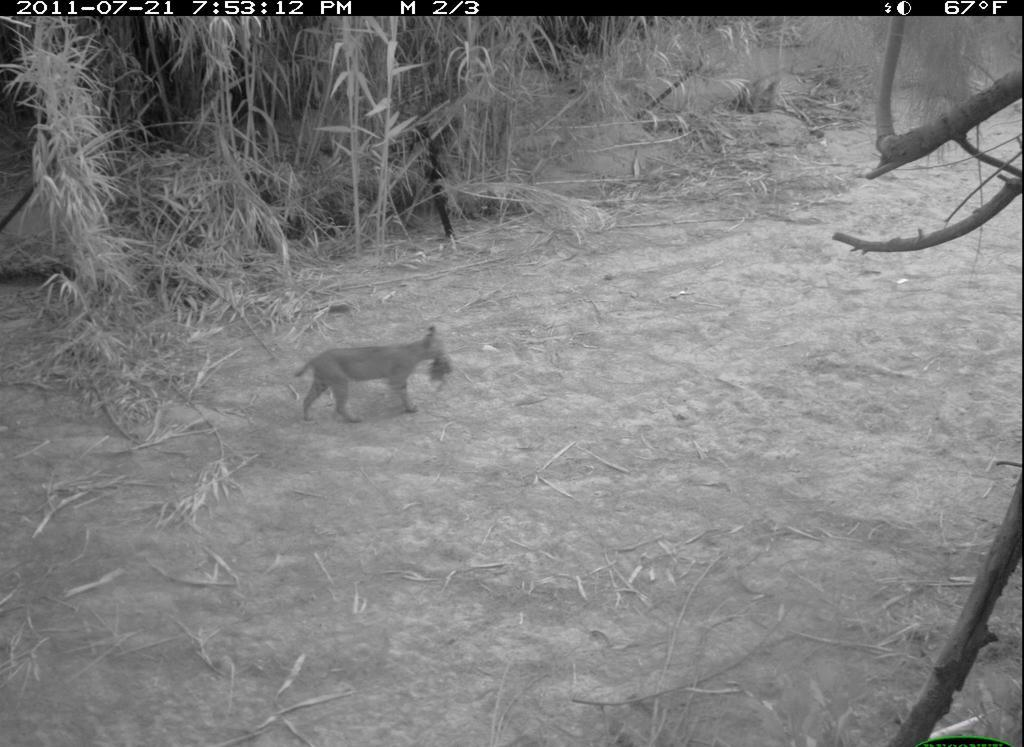rabbit: (422, 349, 453, 397)
